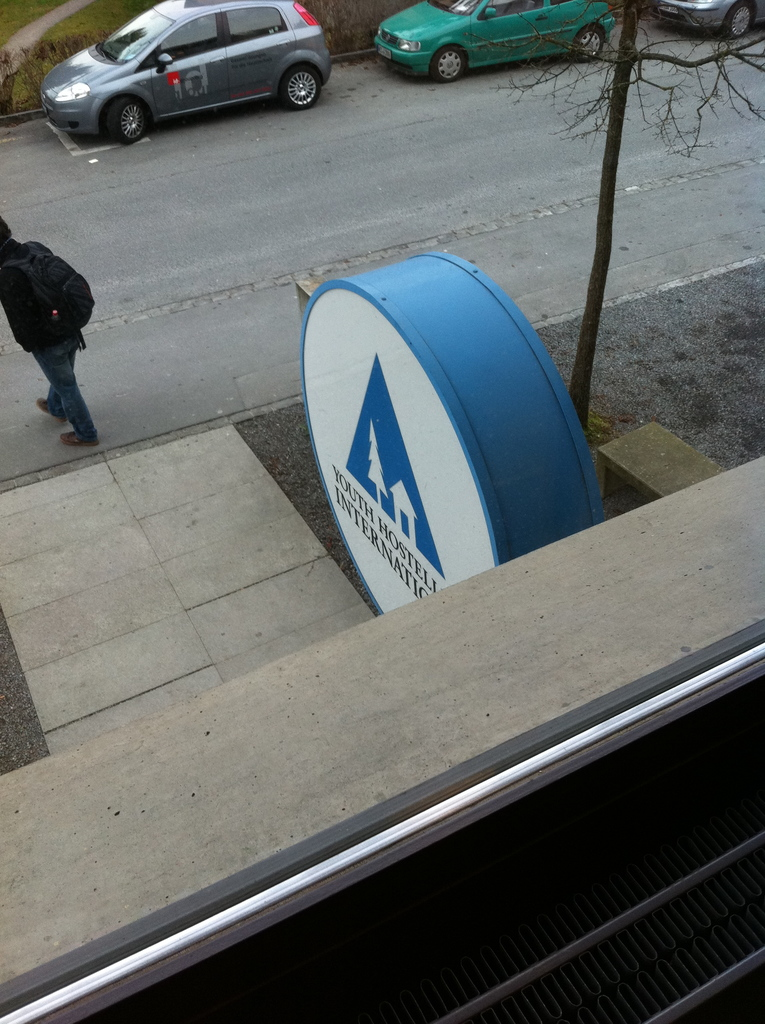Car: (36, 0, 334, 153), (367, 0, 612, 92), (657, 1, 764, 41)
